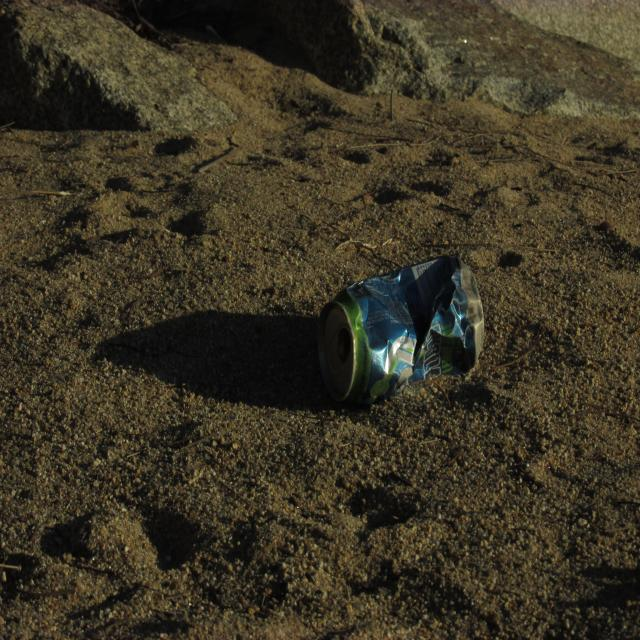metal: (322, 264, 486, 406)
